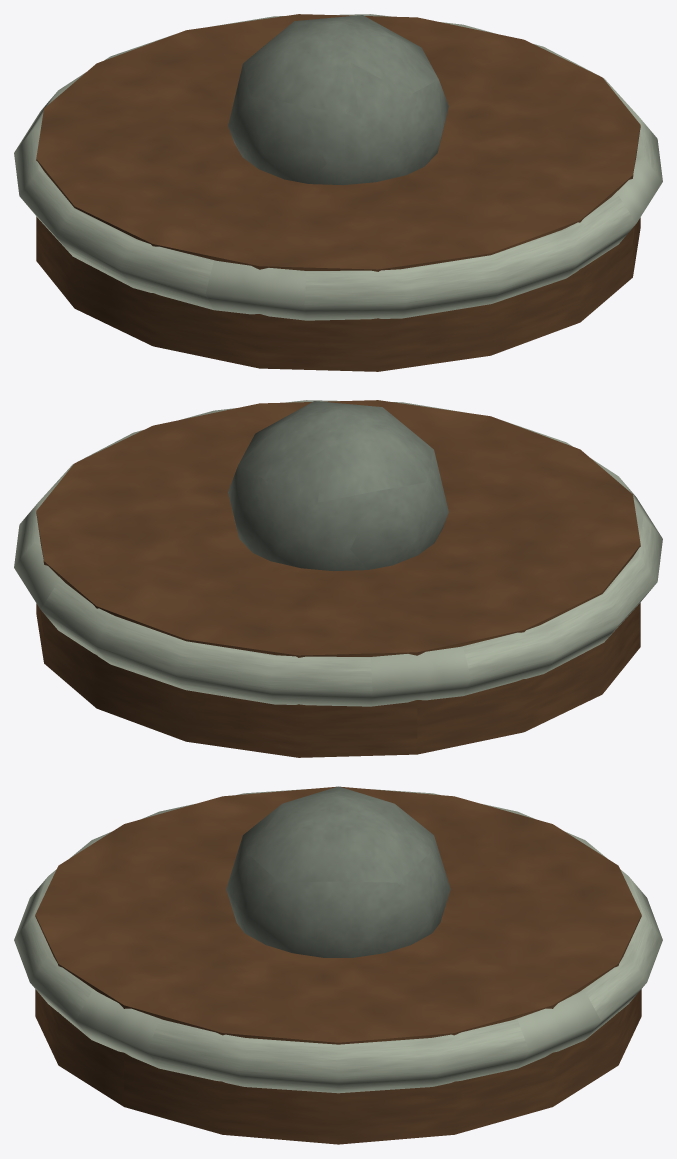
Rendered from item-Buckler.fbx.
3 renders of one model, top to bottom at view 1: azimuth 30°, elevation 25°; view 2: azimuth 150°, elevation 25°; view 3: azimuth 270°, elevation 25°, orthographic.
Visible parts, largest first — view 1: item-Buckler__Geometry; view 2: item-Buckler__Geometry; view 3: item-Buckler__Geometry.
Boxes of the visible parts, x1,y1,x2,y2 form: item-Buckler__Geometry: [14, 14, 662, 371]; item-Buckler__Geometry: [14, 400, 662, 757]; item-Buckler__Geometry: [14, 786, 662, 1144].
Size of the model in its own units: 0.578 by 0.215 by 0.578.
1 material, 1 textured.
